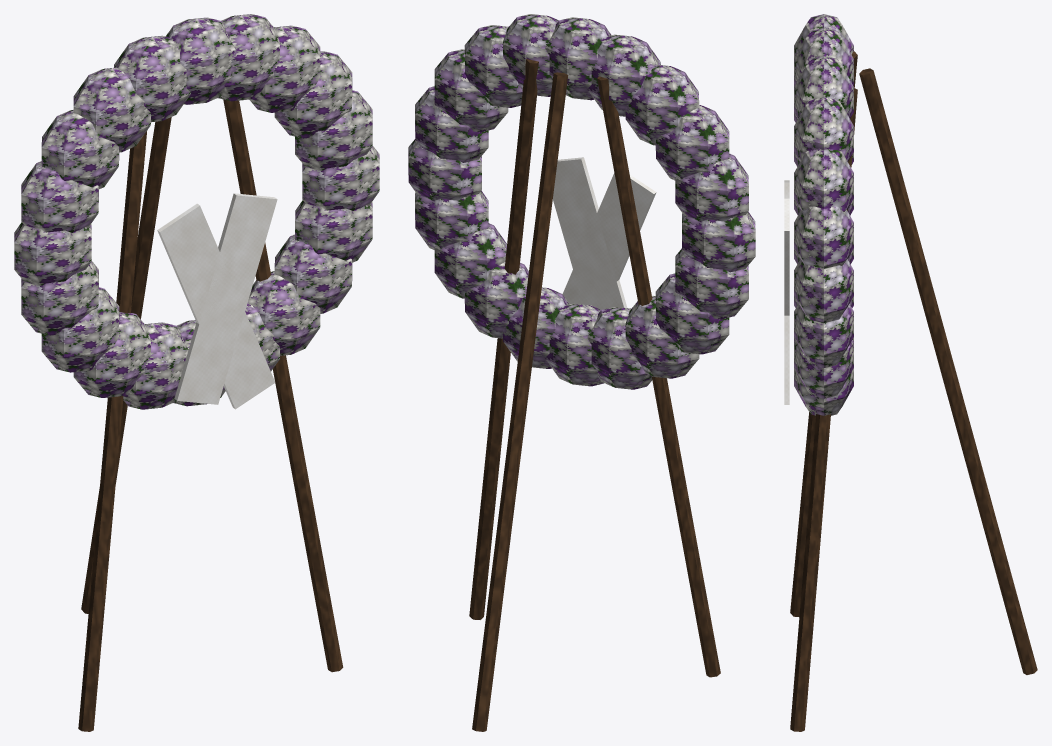
The model's file is corona_blanca.obj.
3 views of the same model, side by side, from view 1: azimuth 30°, elevation 25°; view 2: azimuth 150°, elevation 25°; view 3: azimuth 270°, elevation 25° (orthographic). The views are drawn at different scales.
Visible parts, largest first — view 1: Cube.001, Cylinder, Cube, Cylinder.001, Sphere.007, Sphere.008, Sphere.006, Sphere.009, Sphere.005, Sphere.010, Cylinder.002, Sphere.004 (+12 smaller); view 2: Cylinder.002, Cylinder, Cylinder.001, Cube.001, Cube, Sphere.007, Sphere.008, Sphere.009, Sphere.010, Sphere.006, Sphere.005, Sphere.011 (+13 smaller); view 3: Cylinder.002, Cylinder.001, Sphere.001, Sphere.002, Sphere, Sphere.003, Sphere.019, Sphere.004, Cylinder, Sphere.018, Sphere.005, Sphere.017 (+3 smaller).
Part boxes in pixels (x1,y1,x2,y2): Cube.001: (174, 193, 277, 404); Cylinder: (78, 130, 147, 731); Cube: (157, 203, 275, 409); Cylinder.001: (223, 99, 343, 672); Sphere.007: (73, 67, 150, 152); Sphere.008: (41, 110, 119, 189); Sphere.006: (114, 35, 190, 122); Sphere.009: (21, 161, 98, 232); Sphere.005: (166, 17, 235, 104); Sphere.010: (14, 222, 91, 285); Cylinder.002: (81, 117, 171, 613); Sphere.004: (218, 14, 279, 101); Cylinder.002: (472, 72, 568, 731); Cylinder: (597, 76, 720, 677); Cylinder.001: (469, 59, 538, 619); Cube.001: (553, 157, 627, 308); Cube: (562, 173, 656, 309); Sphere.007: (625, 64, 699, 145); Sphere.008: (655, 105, 729, 180); Sphere.009: (675, 153, 748, 221); Sphere.010: (682, 211, 755, 272); Sphere.006: (587, 34, 660, 116); Sphere.005: (545, 17, 611, 100); Sphere.011: (675, 248, 748, 319); Cylinder.002: (859, 68, 1037, 674); Cylinder.001: (790, 88, 857, 731); Sphere.001: (794, 206, 853, 268); Sphere.002: (794, 149, 853, 211); Sphere: (794, 259, 853, 322); Sphere.003: (794, 97, 853, 161); Sphere.019: (794, 304, 853, 368); Sphere.004: (794, 56, 853, 118); Cylinder: (790, 51, 857, 616); Sphere.018: (794, 340, 853, 398); Sphere.005: (794, 27, 853, 85); Sphere.017: (794, 368, 853, 415).
Size of the model in its own units: 0.7617 by 1.34 by 0.4786.
3 materials, 3 textured.
